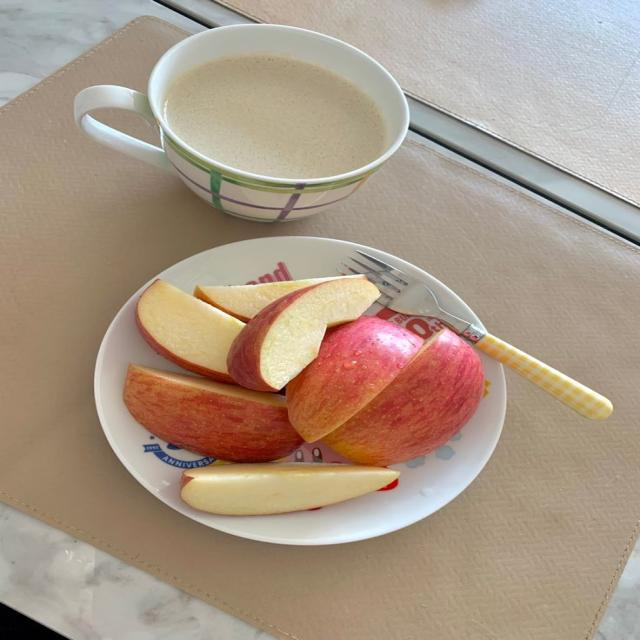apple: (324, 329, 484, 465), (124, 365, 301, 462), (227, 278, 379, 390), (287, 317, 422, 442), (181, 463, 399, 515), (136, 280, 245, 382), (194, 276, 365, 322)
